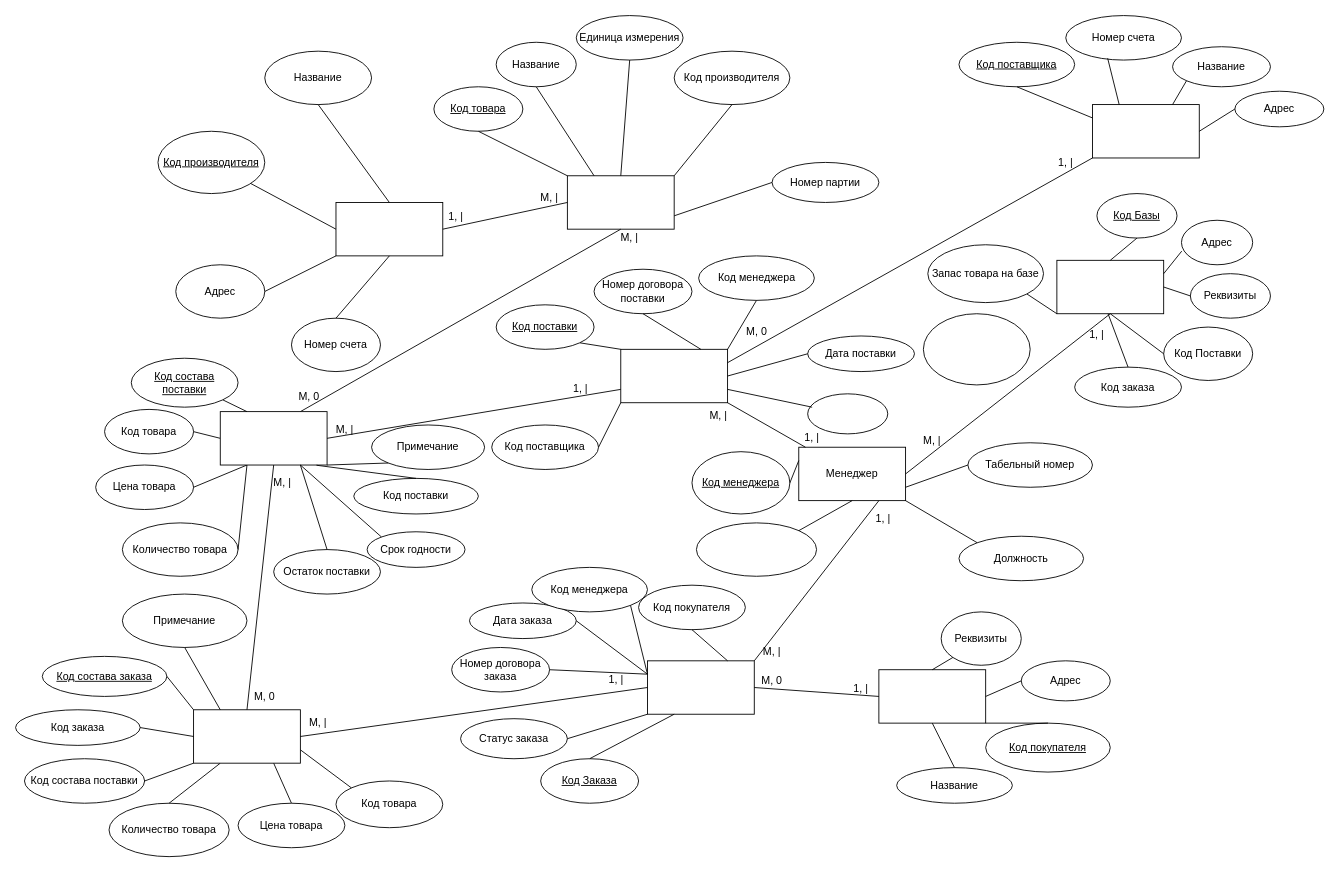
Some shapes in this 1339 by 872 pixel diagram are drawn without their labels. The centre of each missing label's shape, as x and y in pixels:
"База" goes at (x=1110, y=286).
"Заказ" goes at (x=700, y=687).
"Паспортные данные" goes at (x=756, y=549).
"Покупатель" goes at (x=932, y=696).
"Поставка" goes at (x=674, y=375).
"Поставщик" goes at (x=1145, y=131).
"Производитель" goes at (x=389, y=229).
"Состав заказа" goes at (x=246, y=736).
"Состав поставки" goes at (x=273, y=438).
"Статус поставки" goes at (x=847, y=413).
"Товар" goes at (x=620, y=202).
